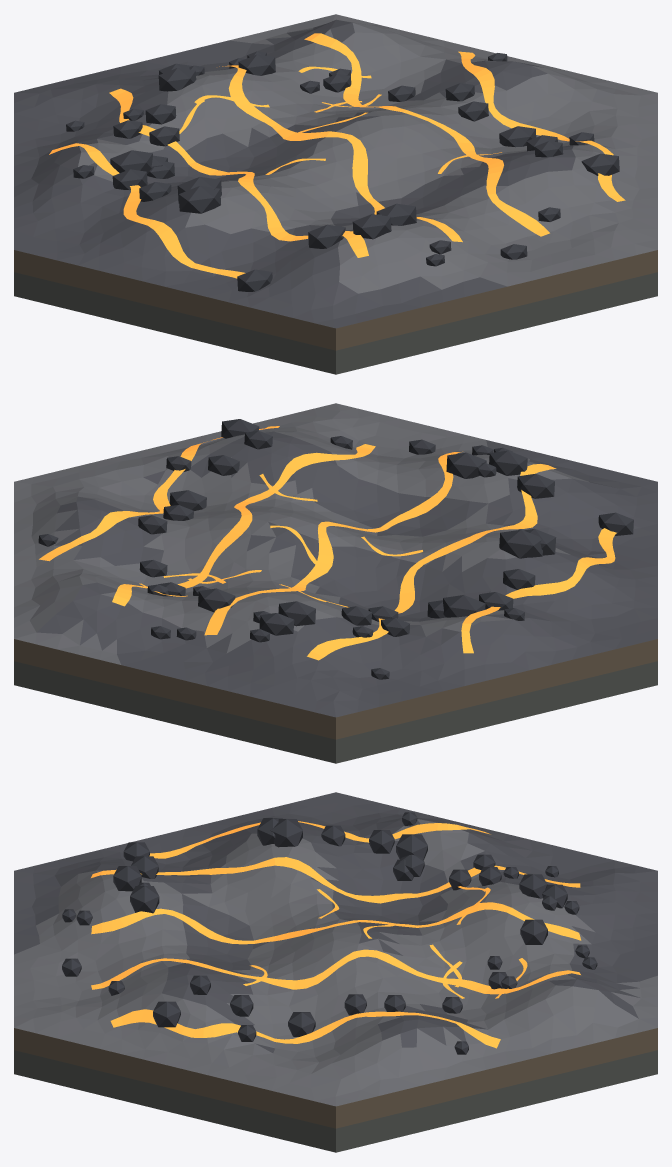
File: lava-field.glb
The picture shows the model from 3 angles, top to bottom: view 1: azimuth 30°, elevation 25°; view 2: azimuth 150°, elevation 25°; view 3: azimuth 270°, elevation 25°; orthographic projection.
Parts seen in each view (by area): view 1: LandformRoot_mesh, Fissure.007_mesh, Fissure.005_mesh, Fissure.003_mesh, Fissure.001_mesh, Fissure.009_mesh; view 2: LandformRoot_mesh, Fissure.005_mesh, Fissure.003_mesh, Fissure.007_mesh, Fissure.001_mesh, Fissure.009_mesh; view 3: LandformRoot_mesh, Fissure.007_mesh, Fissure.005_mesh, Fissure.009_mesh, Fissure.003_mesh, Fissure.001_mesh.
Part boxes in pixels (<box>): LandformRoot_mesh: <box>14,14,657,374</box>; Fissure.007_mesh: <box>304,33,549,236</box>; Fissure.005_mesh: <box>219,65,462,242</box>; Fissure.003_mesh: <box>109,88,368,257</box>; Fissure.001_mesh: <box>49,143,245,278</box>; Fissure.009_mesh: <box>458,51,625,201</box>; LandformRoot_mesh: <box>14,403,657,763</box>; Fissure.005_mesh: <box>204,451,462,635</box>; Fissure.003_mesh: <box>307,464,556,660</box>; Fissure.007_mesh: <box>112,444,375,606</box>; Fissure.001_mesh: <box>461,528,616,653</box>; Fissure.009_mesh: <box>39,426,279,561</box>; LandformRoot_mesh: <box>14,792,657,1152</box>; Fissure.007_mesh: <box>91,949,580,994</box>; Fissure.005_mesh: <box>91,902,581,944</box>; Fissure.009_mesh: <box>110,1009,500,1048</box>; Fissure.003_mesh: <box>91,857,580,903</box>; Fissure.001_mesh: <box>149,821,490,858</box>.
Size of the model in its own units: 3.5 by 0.5095 by 3.03.
